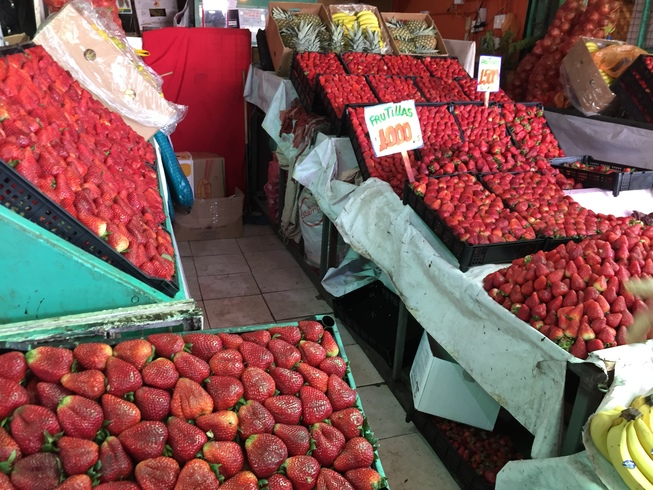precio: (364, 100, 424, 156), (476, 52, 505, 96)
